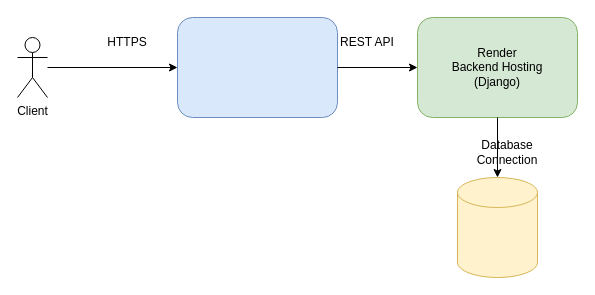
Image size: 595x295. Some labels were removed from this diagram. Here are the shapes that lost their labels. From the top down, the centre of each, then its label:
pixel 257 67: Vercel Frontend Hosting (React + TypeScript)
pixel 497 227: Supabase PostgreSQL Database
